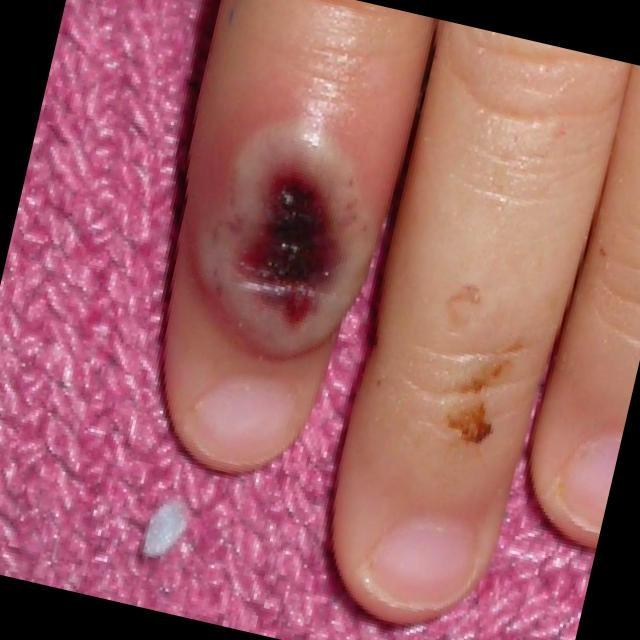Eczema: (181, 120, 387, 358)
